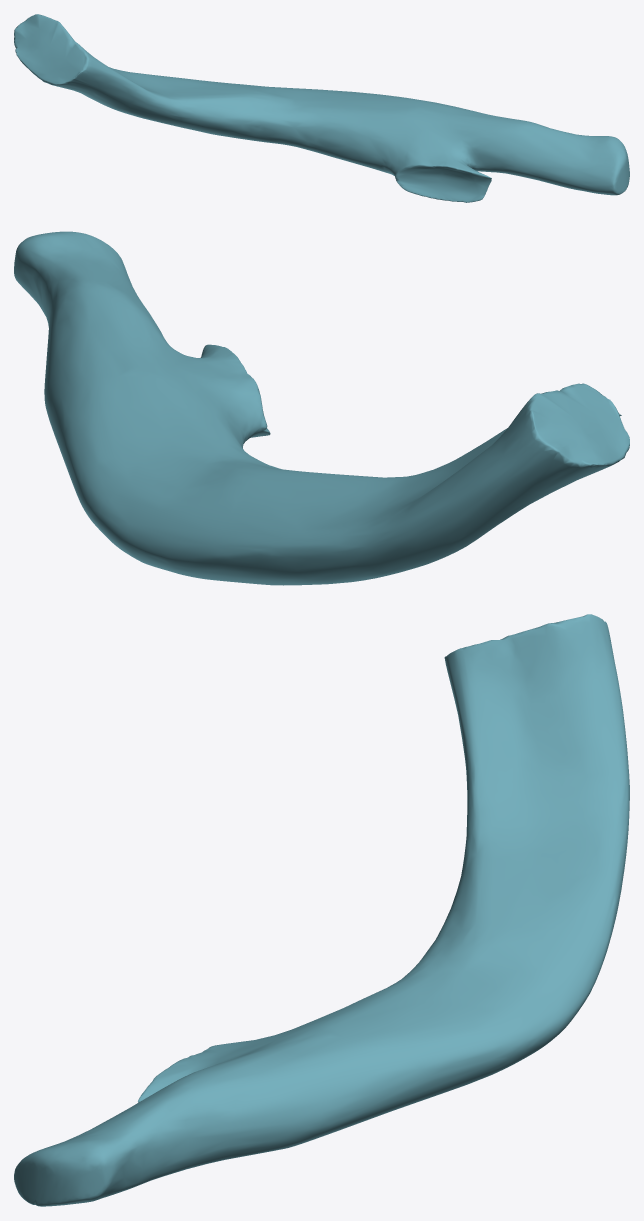
3 renders of one model, top to bottom at view 1: azimuth 30°, elevation 25°; view 2: azimuth 150°, elevation 25°; view 3: azimuth 270°, elevation 25°, orthographic. The views are drawn at different scales.
Parts seen in each view (by area): view 1: 右侧第七肋软骨; view 2: 右侧第七肋软骨; view 3: 右侧第七肋软骨.
Part boxes in pixels (x1,y1,x2,y2): 右侧第七肋软骨: (14,14,629,202); 右侧第七肋软骨: (14,231,629,585); 右侧第七肋软骨: (14,614,629,1206).
Size of the model in its own units: 0.1592 by 0.054 by 0.1112.
